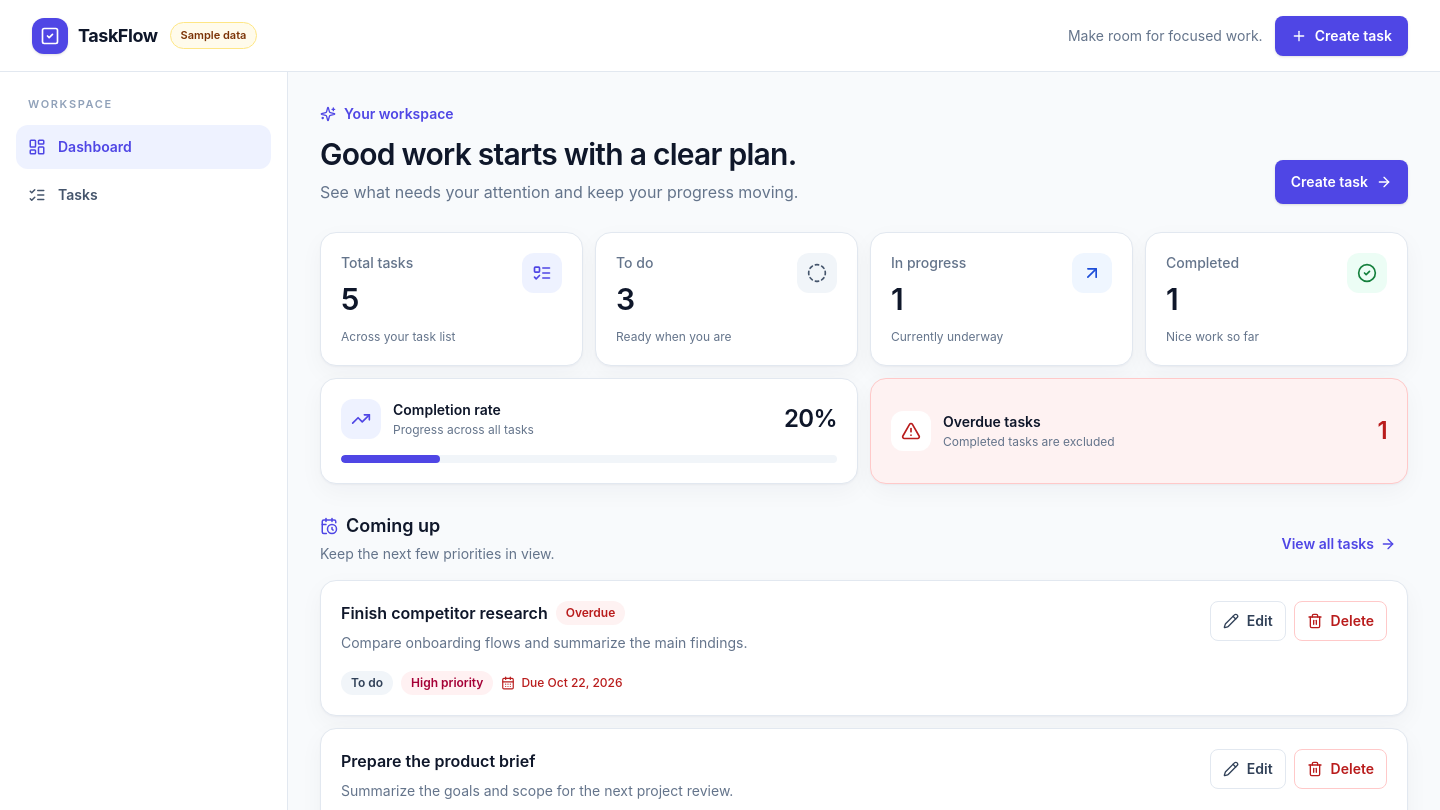
Test case: TaskFlow application › requires confirmation before deleting a task
Check: the heading "Good work starts with a clear plan." is shown, box [320,136,798,172]
Click the link "Tasks" at (63, 194), box [28,186,98,204]
(page scrolled)
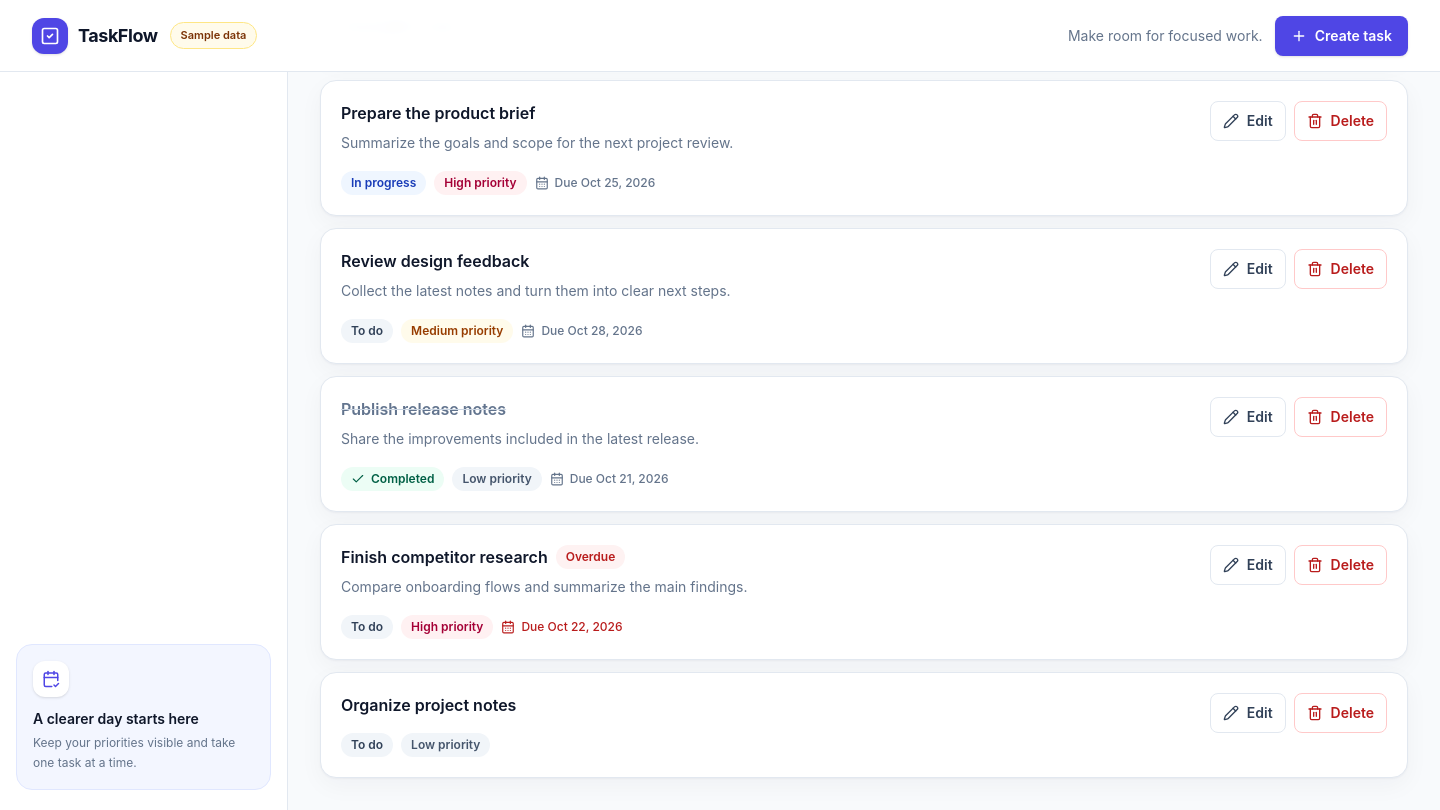
Click the button with aria-label "Delete Finish competitor research" at (1340, 565), box [1294,545,1387,585]
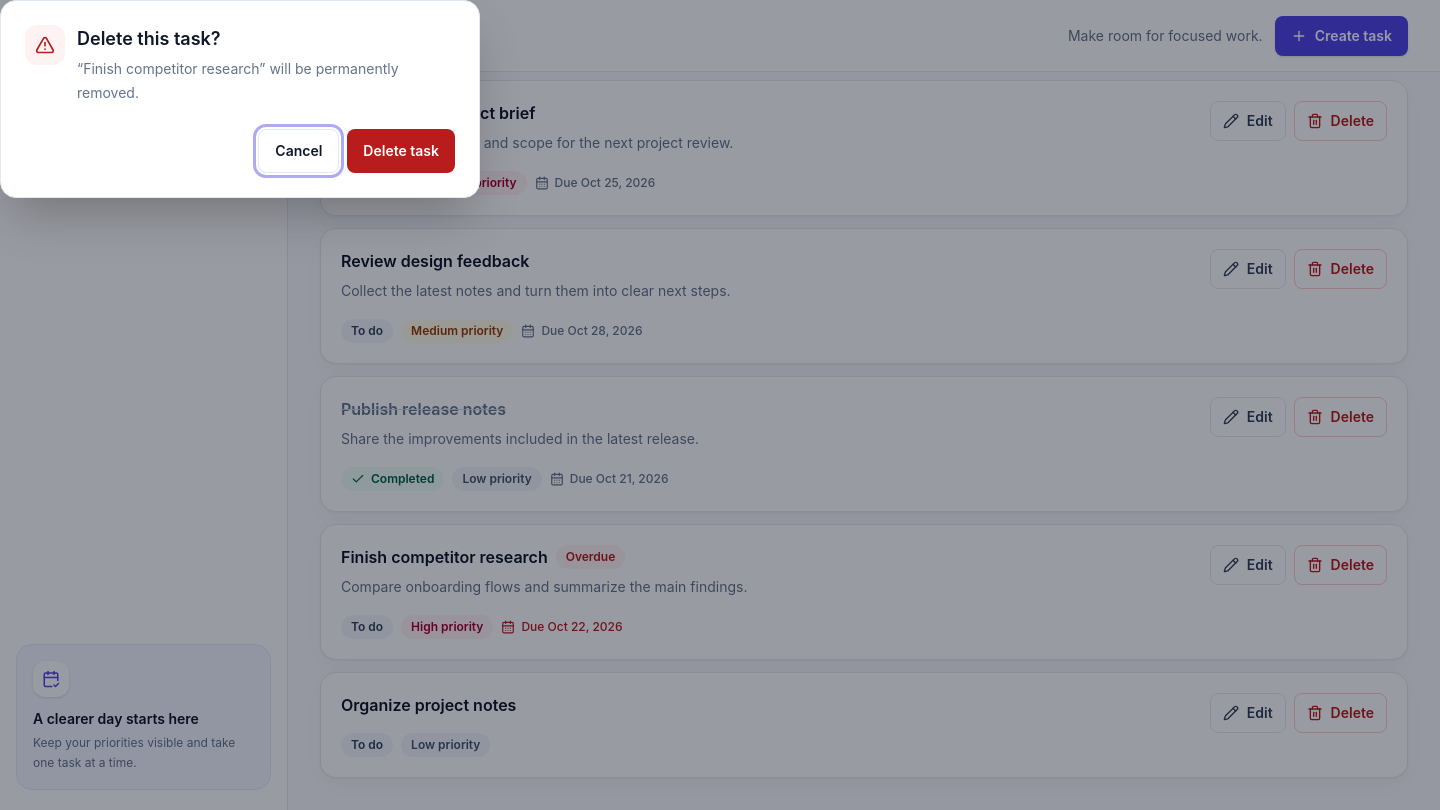
Check: the dialog "Delete this task?" shows "will be permanently removed", box [77,60,399,101]
Click the button "Cancel" at (299, 151), box [258,129,339,173]
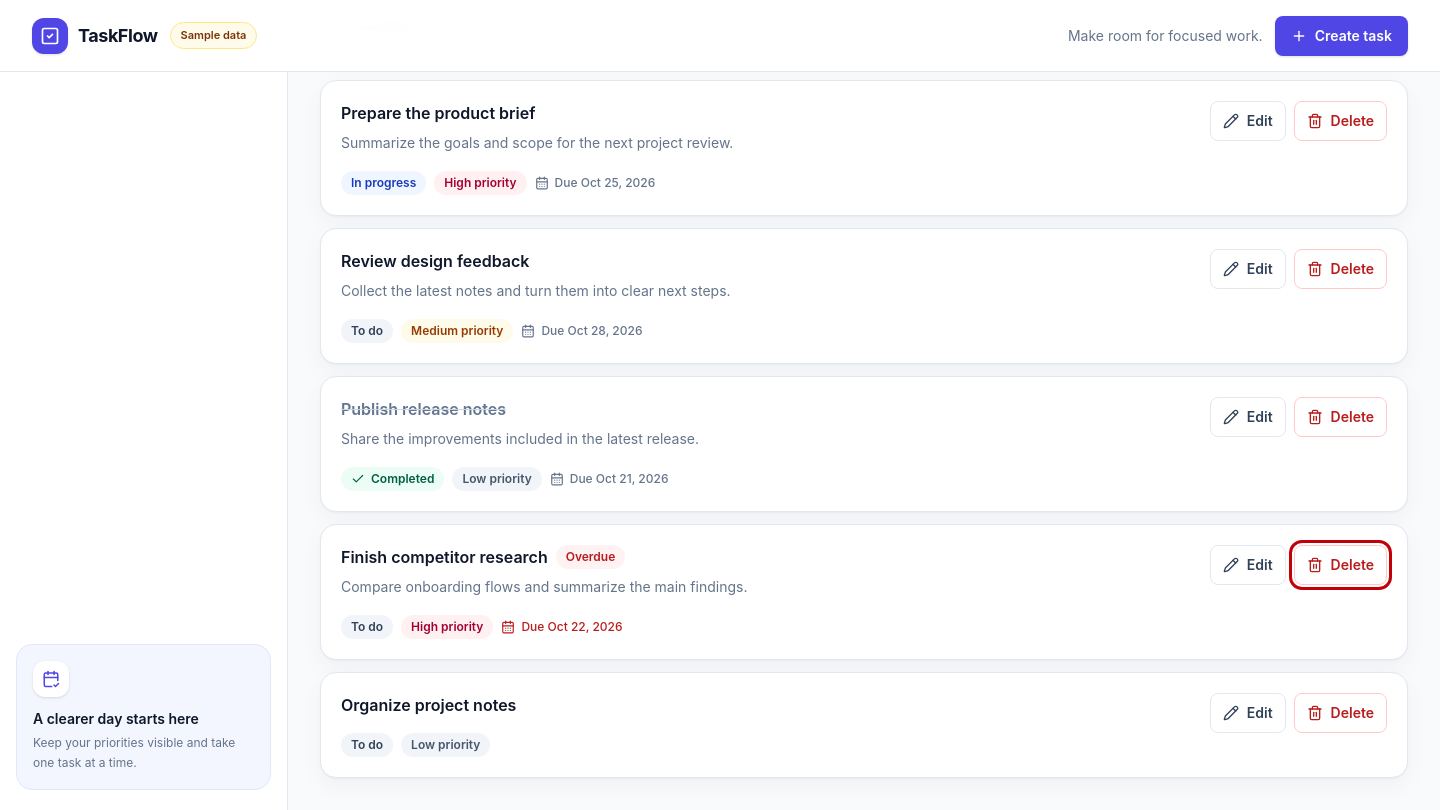
Check: the heading "Finish competitor research" is shown, box [341,545,548,569]
Click the button with aria-label "Delete Finish competitor research" at (1340, 565), box [1294,545,1387,585]
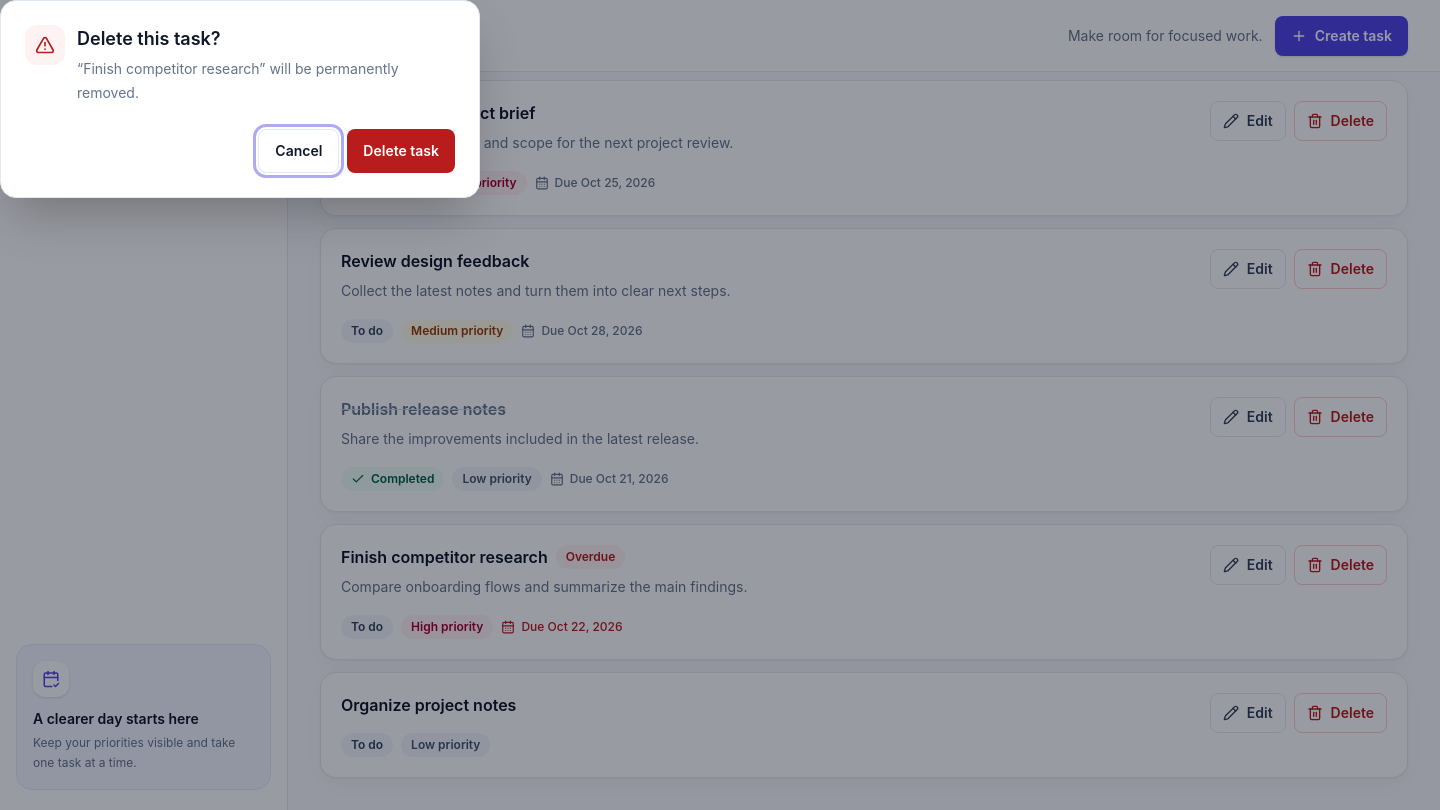
Click the button "Delete task" at (401, 151), box [347,129,455,173]
(page scrolled)
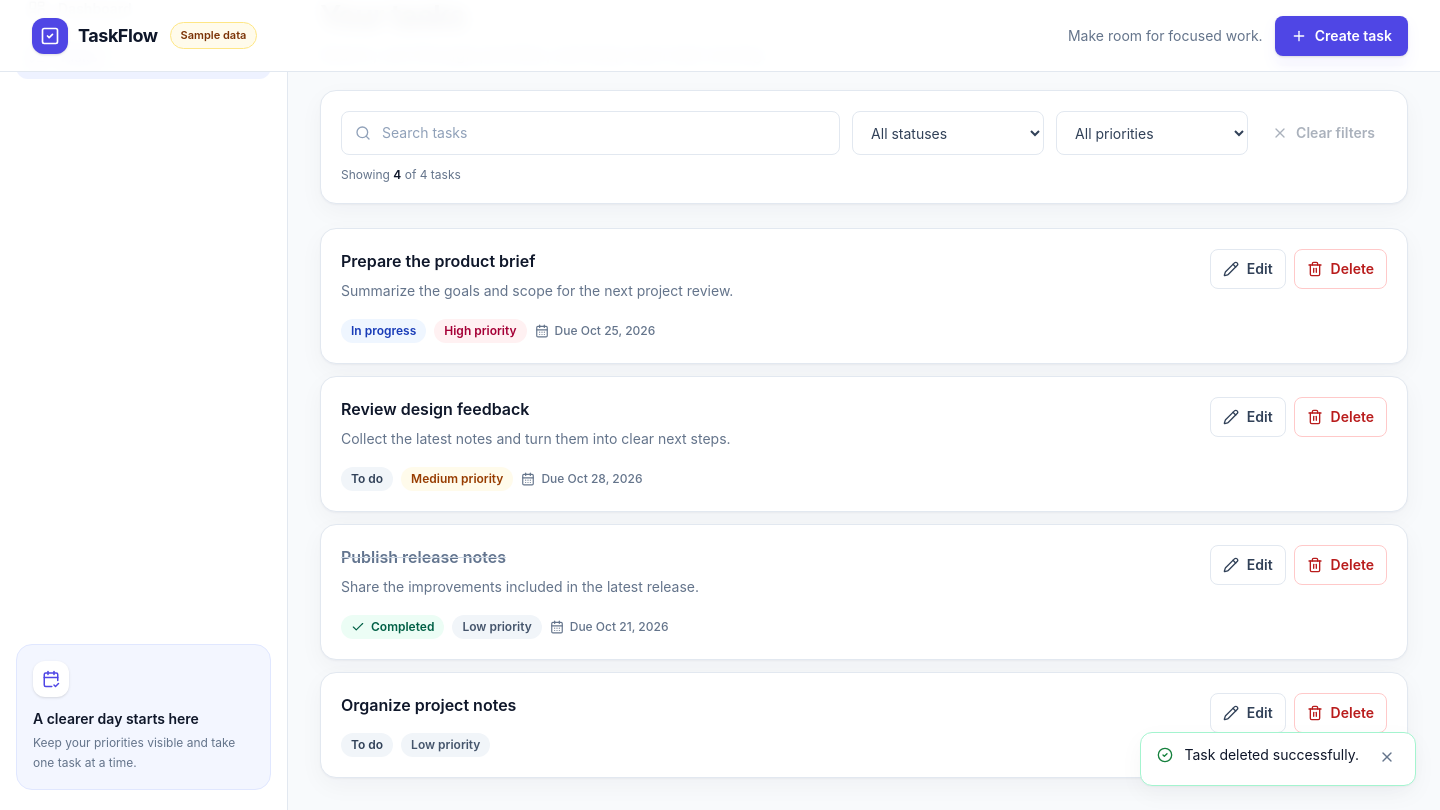
Check: the heading "Finish competitor research" is gone
Check: the text "Task deleted successfully." is shown, box [1184,745,1359,765]
